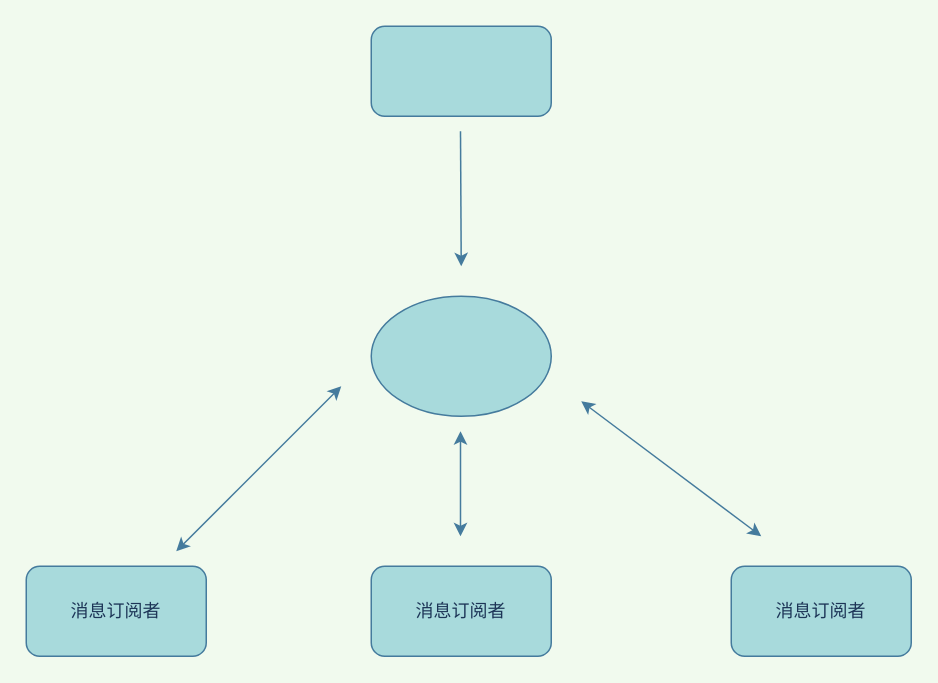
The diagram is 938 pixels wide and 683 high, and some of its shapes have lost their labels. Each missing label, with the centre of its shape:
消息发布者: the point at 460,70
调度中心: the point at 460,355
